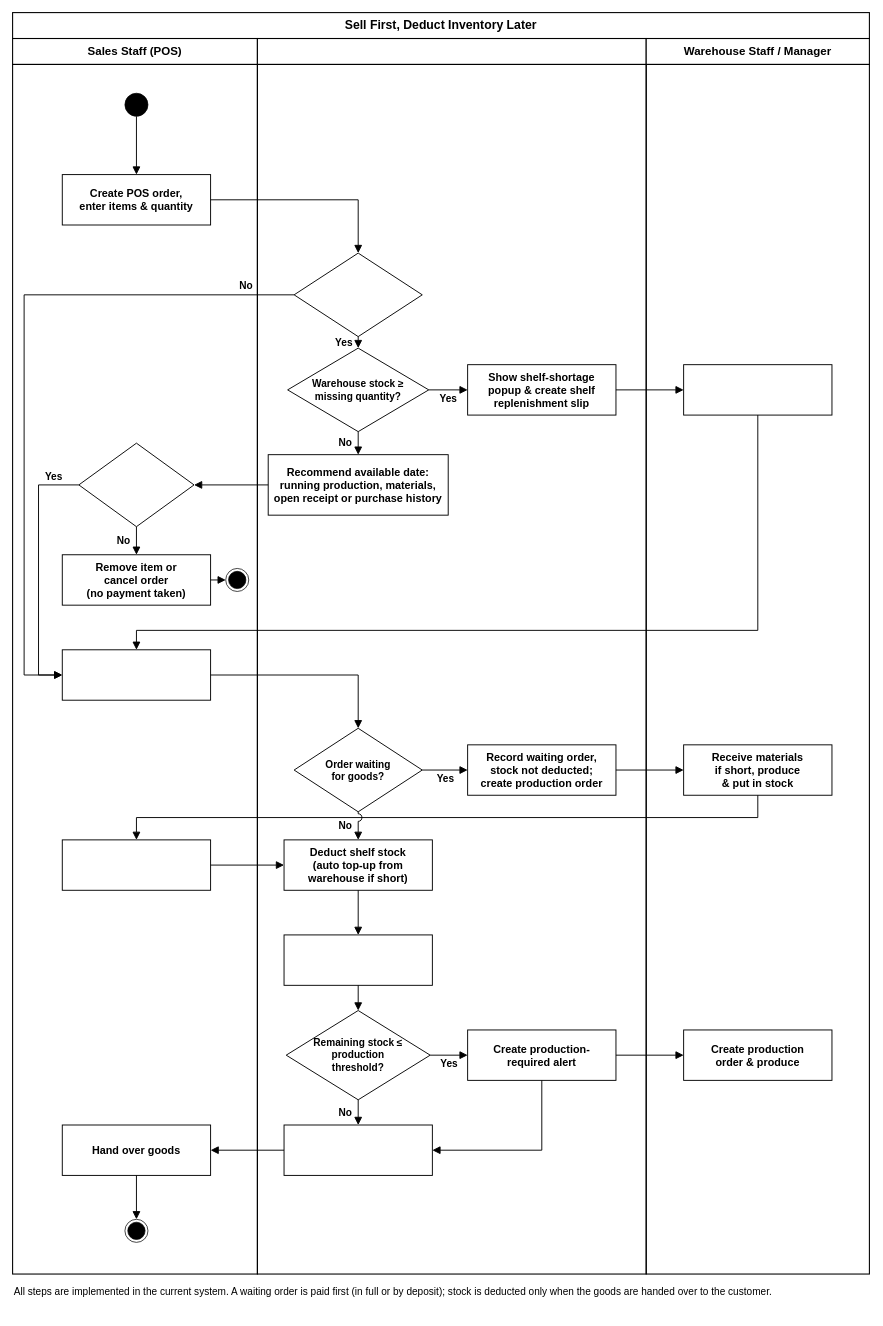
The diagram is 883 pixels wide and 1326 high, and some of its shapes have lost their labels. The shapes that lost their labels are listed below. From the top down, each one's box as (x1, y1, x2, y2) in pixels, then its label:
(257, 38, 646, 65): System
(293, 252, 422, 337): Order quantity > shelf quantity?
(683, 364, 832, 415): Move goods from warehouse to shelf & confirm slip
(78, 442, 194, 527): Customer agrees to wait?
(61, 649, 211, 700): Confirm payment (full, or deposit for waiting order)
(61, 839, 211, 890): Check goods ready, collect remaining & confirm hand-over
(283, 934, 433, 985): Reserve ingredients to re-produce the sold quantity
(283, 1124, 433, 1176): Complete order, print / email invoice
